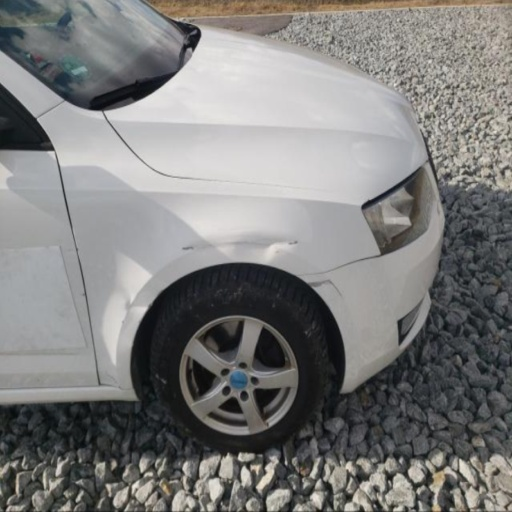dent: (211, 221, 314, 269), (122, 296, 152, 312)
scratch: (180, 238, 300, 251), (305, 276, 347, 302), (218, 241, 278, 252), (104, 370, 125, 394), (120, 297, 134, 313), (145, 301, 153, 313), (119, 319, 126, 327)
